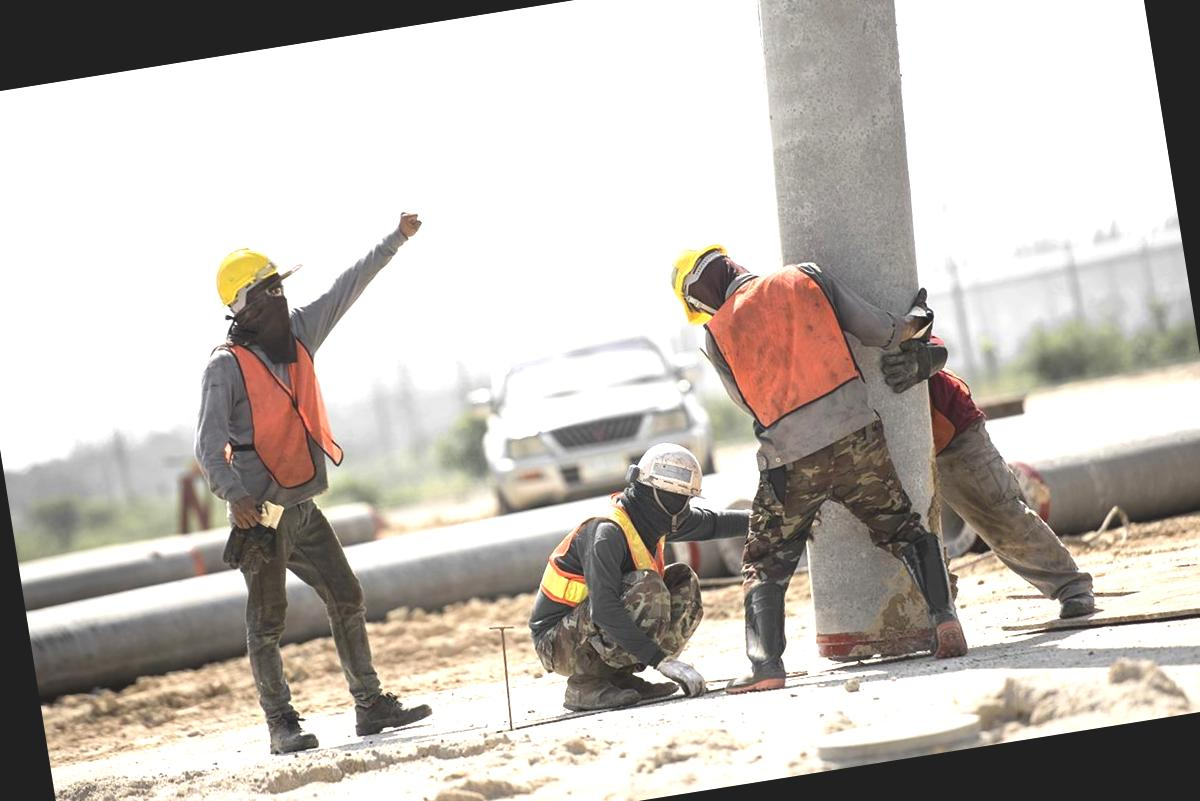helmet: (196, 236, 294, 320), (622, 431, 711, 520)
person: (654, 196, 991, 704), (156, 225, 438, 758), (508, 421, 736, 718)
